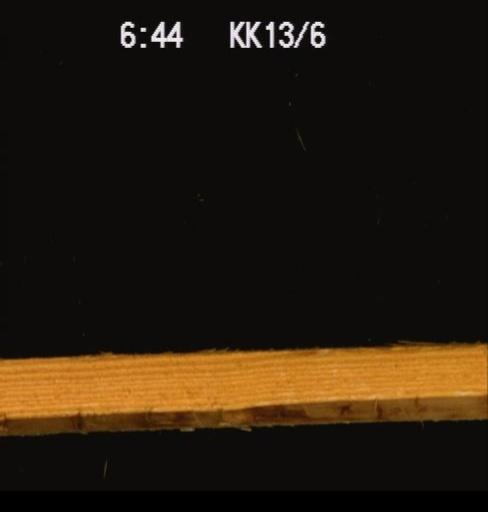wave: (0, 332, 485, 369), (2, 397, 481, 433)
